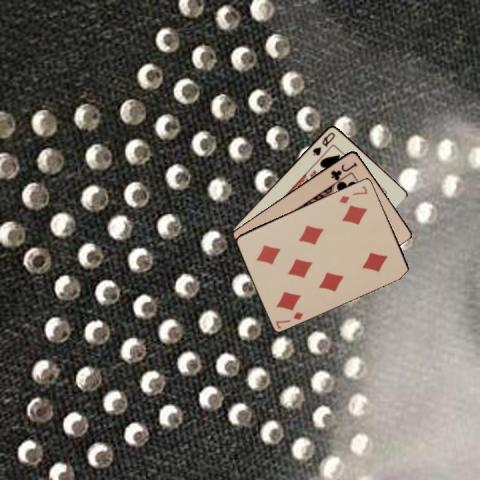7d: (337, 183, 369, 204), (272, 309, 304, 330)
Jc: (328, 159, 359, 180)
Qs: (309, 128, 337, 156)
